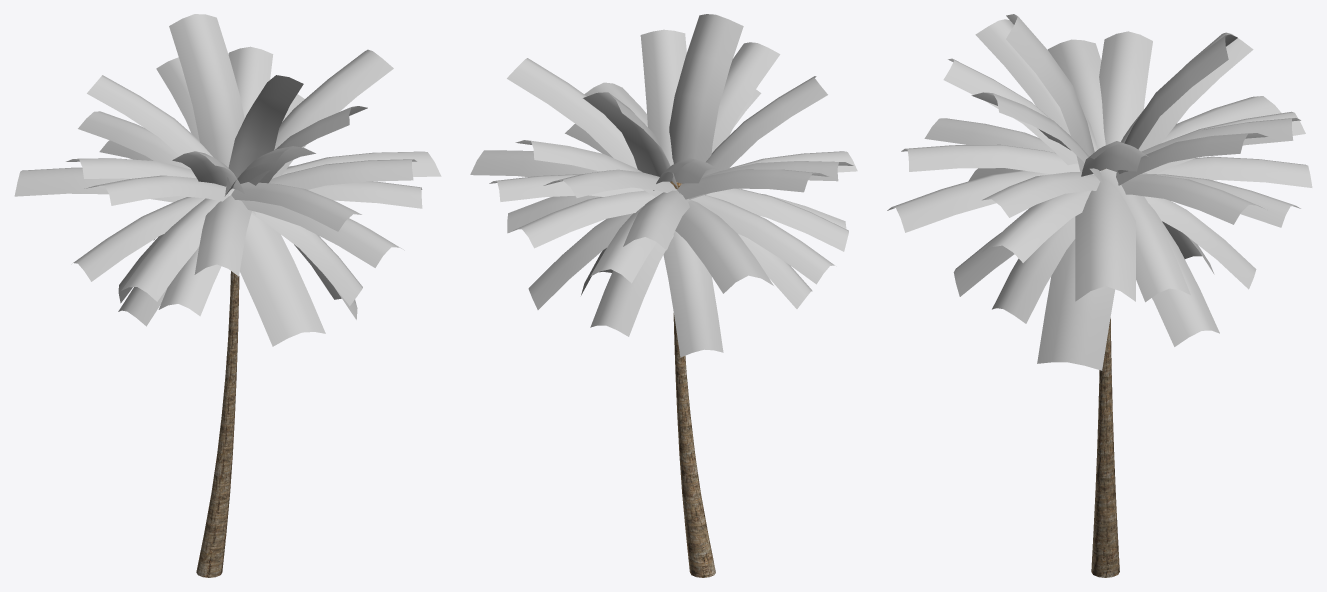
Rendered from palmtree_tall.FBX.
The picture shows the model from 3 angles, left to right: view 1: azimuth 30°, elevation 25°; view 2: azimuth 150°, elevation 25°; view 3: azimuth 270°, elevation 25°; orthographic projection. The views are drawn at different scales.
Parts seen in each view (by area): view 1: palmtree_tall; view 2: palmtree_tall; view 3: palmtree_tall.
Boxes of the visible parts, left/top/right/bottom form: palmtree_tall: left=14, top=14, right=441, bottom=577; palmtree_tall: left=470, top=14, right=857, bottom=577; palmtree_tall: left=887, top=14, right=1312, bottom=577.
Bounding box in the file's own units: 6.74 × 9.54 × 6.46.
